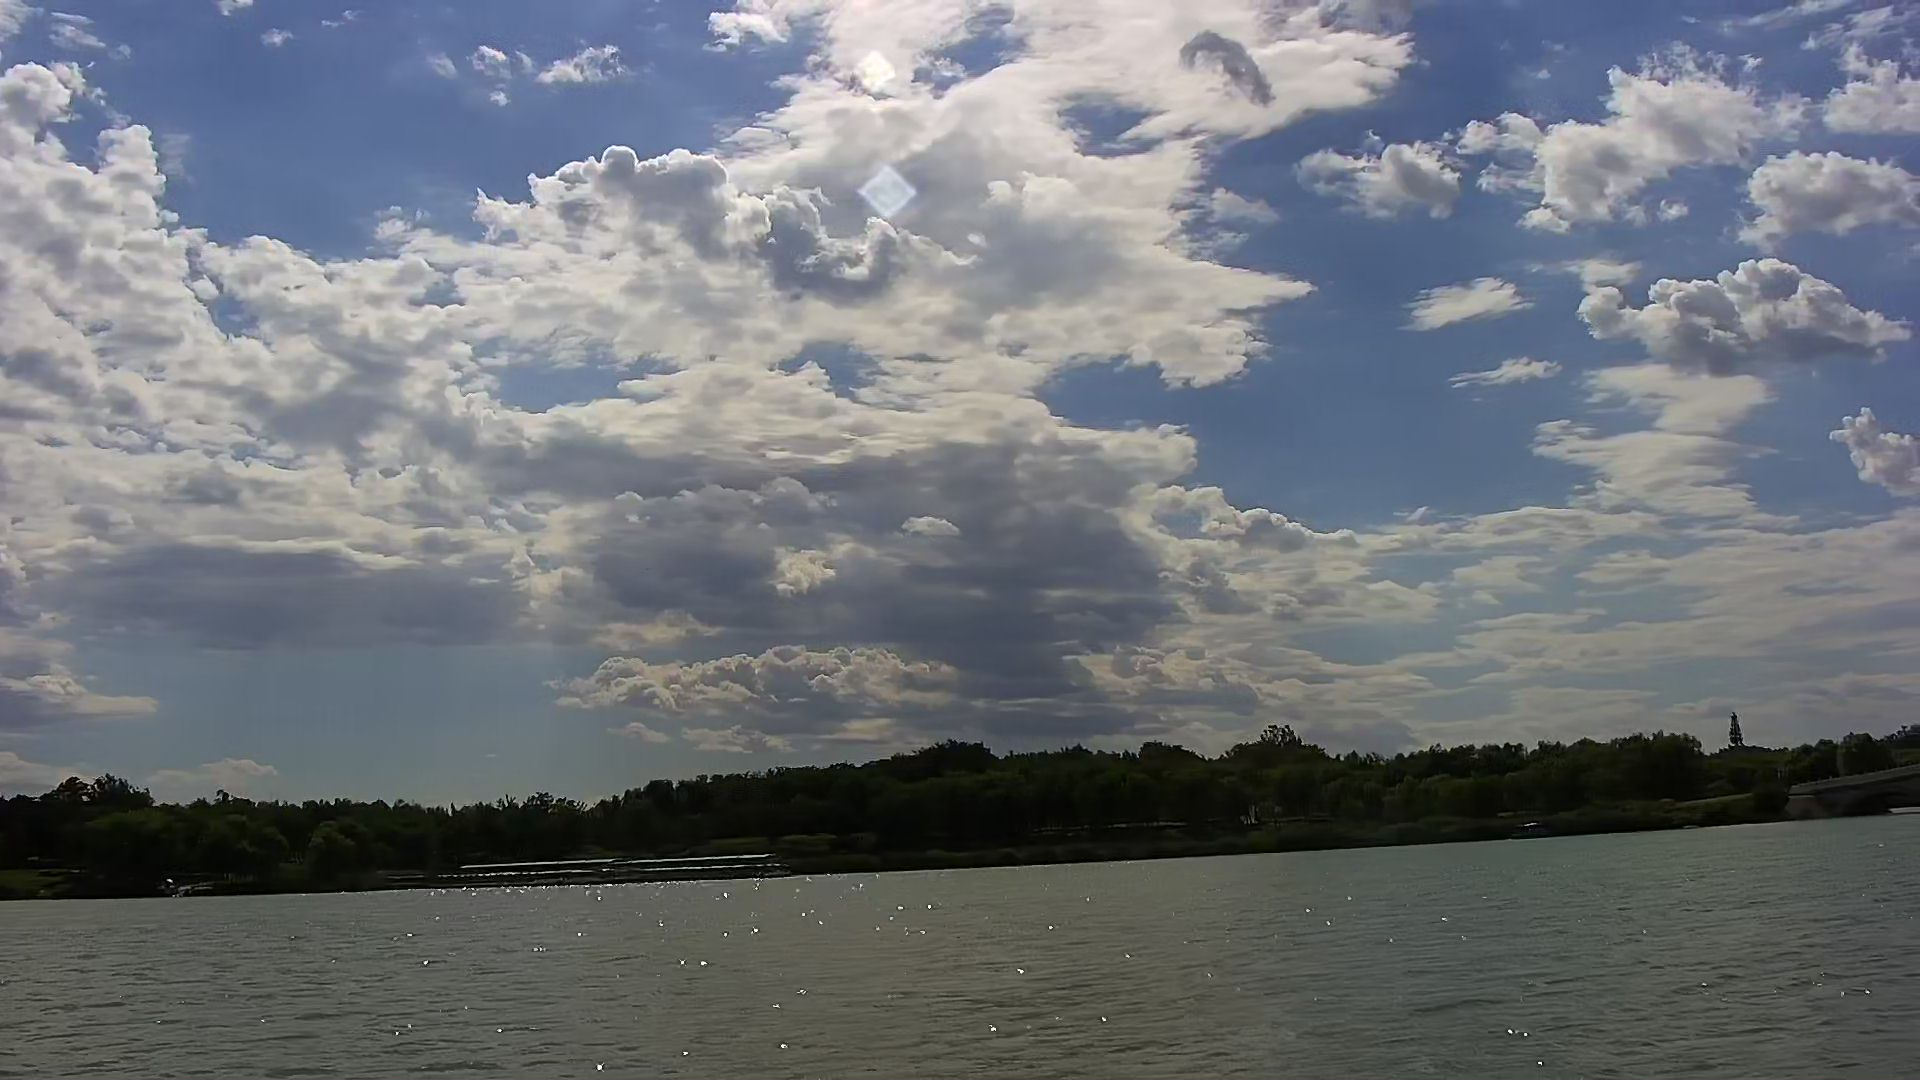harbor: (458, 849, 773, 885)
